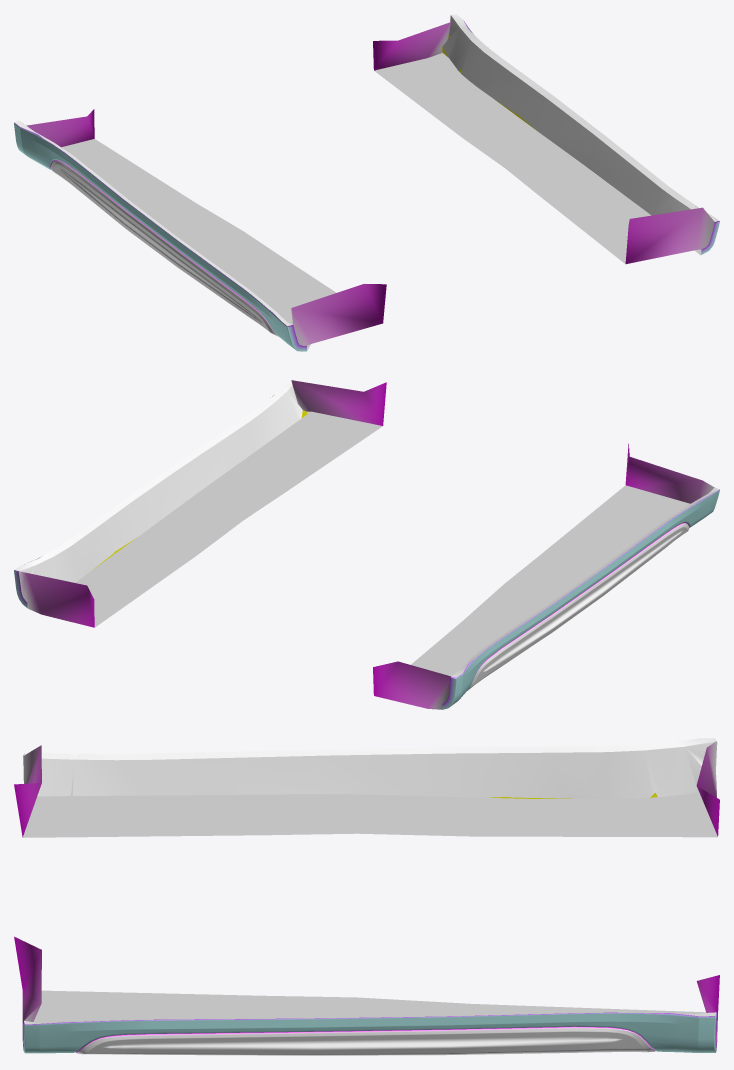
The model's file is Car_Mini_CountrymanJCW_2017_Skirts_SetA.fbx.
The picture shows the model from 3 angles, top to bottom: view 1: azimuth 30°, elevation 25°; view 2: azimuth 150°, elevation 25°; view 3: azimuth 270°, elevation 25°; orthographic projection. The views are drawn at different scales.
Parts seen in each view (by area): view 1: Skirts 6; view 2: Skirts 6; view 3: Skirts 6.
Part boxes in pixels (left/top/right/bottom): Skirts 6: left=14, top=14, right=719, bottom=351; Skirts 6: left=14, top=380, right=719, bottom=709; Skirts 6: left=14, top=738, right=719, bottom=1055.
Bounding box in the file's own units: 1.77 × 0.1973 × 1.9.
